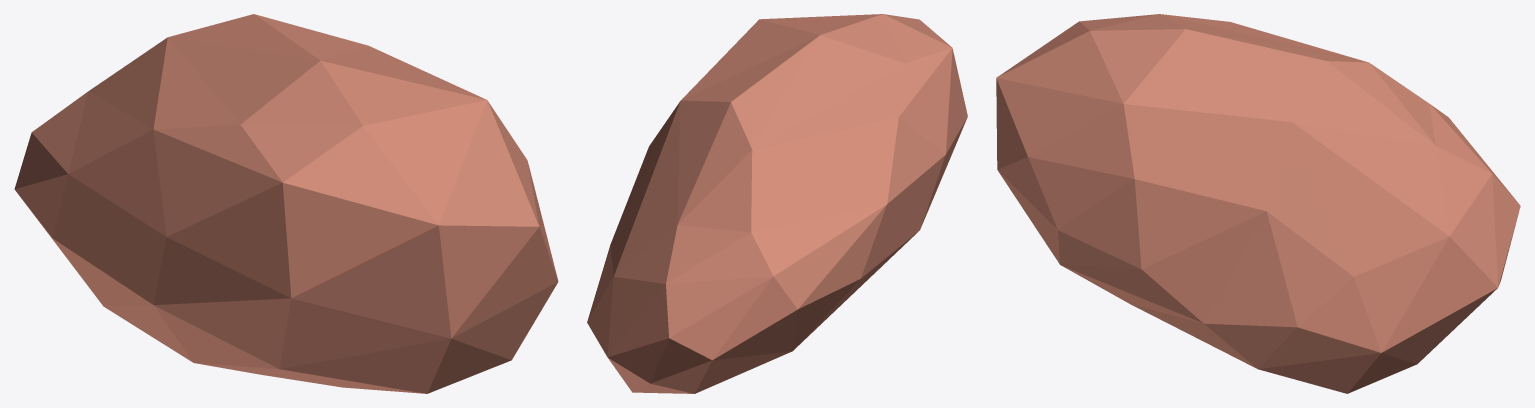
Rendered from stone_010.fbx.
3 renders of one model, left to right at view 1: azimuth 30°, elevation 25°; view 2: azimuth 150°, elevation 25°; view 3: azimuth 270°, elevation 25°, orthographic. The views are drawn at different scales.
Parts seen in each view (by area): view 1: stone_010; view 2: stone_010; view 3: stone_010.
Boxes of the visible parts, left/top/right/bottom form: stone_010: left=14, top=14, right=558, bottom=393; stone_010: left=587, top=14, right=967, bottom=393; stone_010: left=996, top=14, right=1520, bottom=393.
Size of the model in its own units: 542 by 868 by 567.
